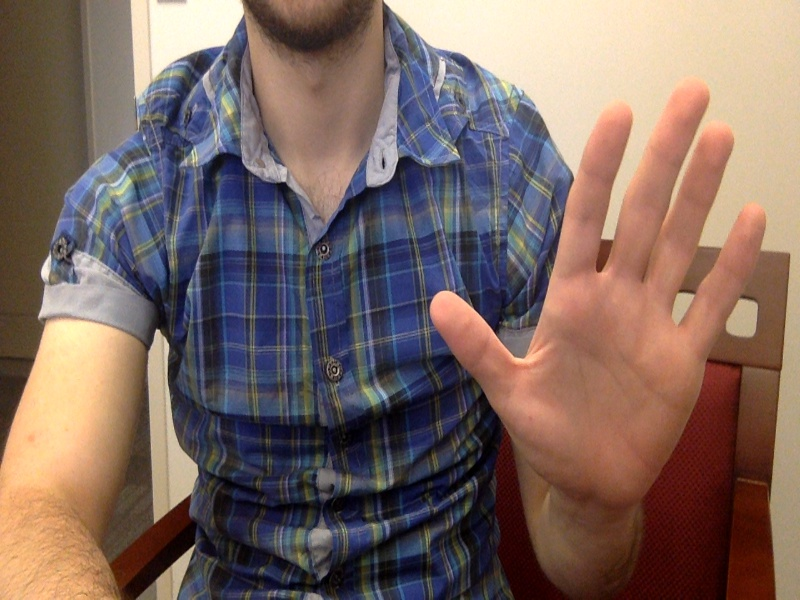5-hand: (431, 79, 769, 505)
